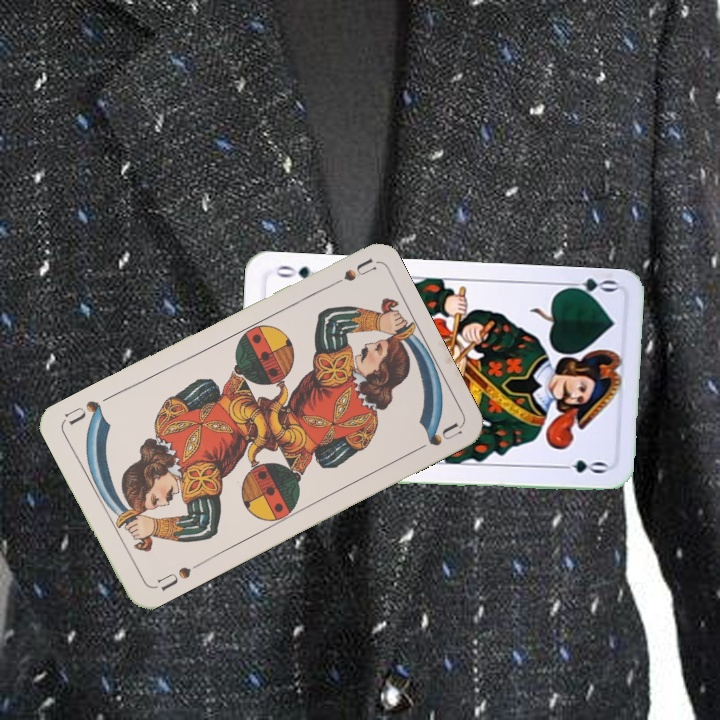GO: (559, 274, 618, 301)
SU: (320, 255, 377, 293), (148, 559, 204, 594)
